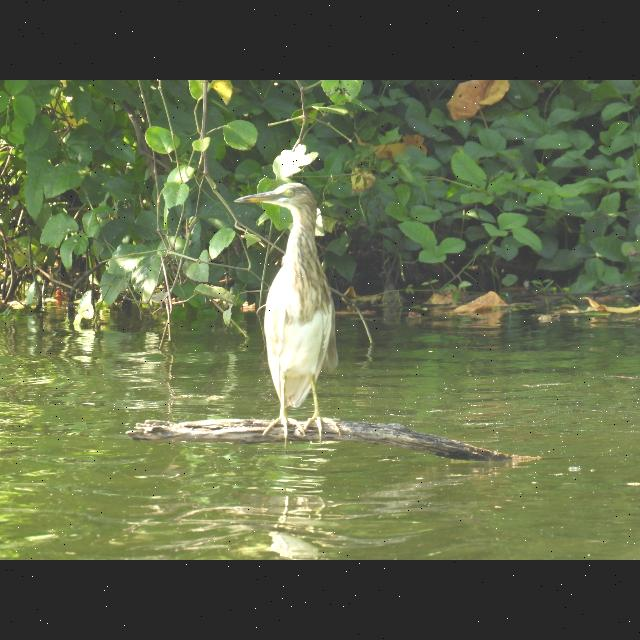heron: (230, 168, 336, 458)
